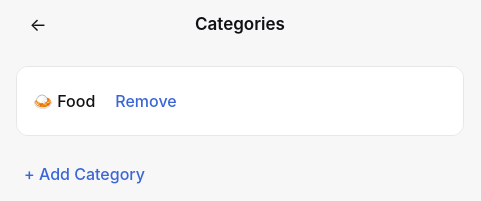
Scenario: CategoriesScreen › removes a category without a password, preserving historical expenses (backend handles the Uncategorized fallback)
Step 1. Click the button with aria-label "Remove Food" → point(146, 101), box top-left (107, 79), bottom-right (185, 123)
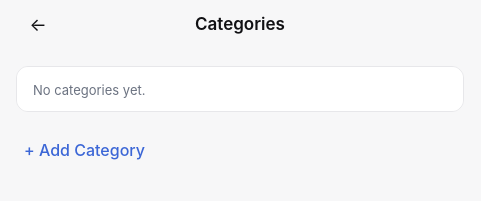
Expected: the text "No categories yet." is shown, top-left (33, 82), bottom-right (146, 98)
